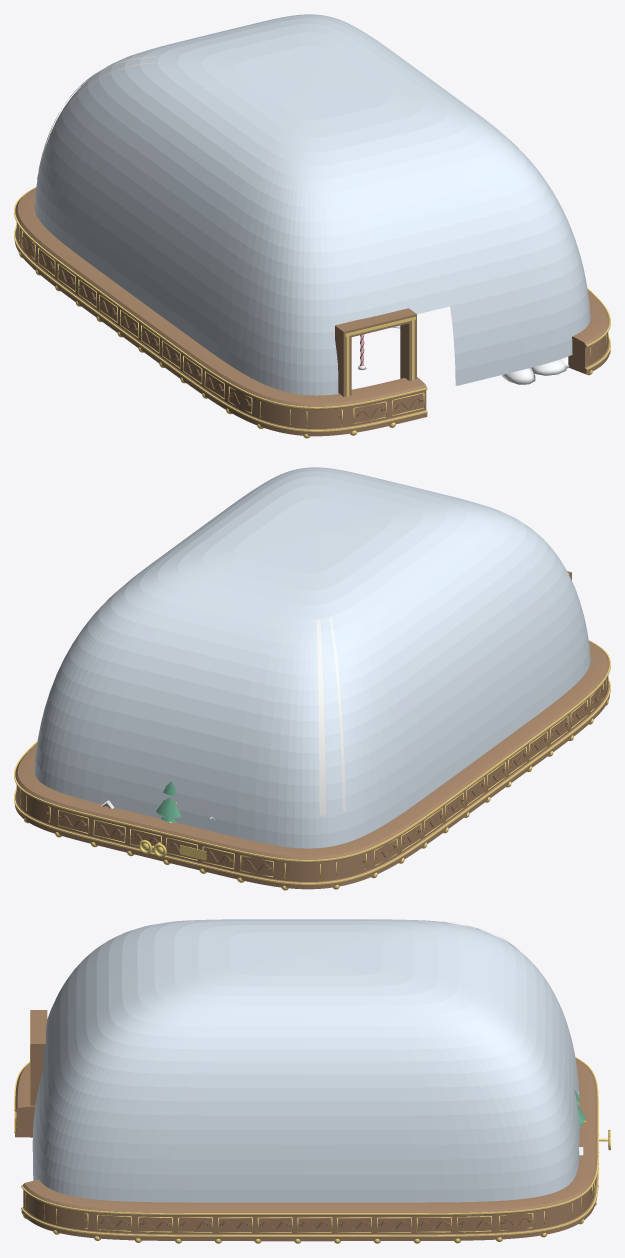
The model's file is SnowGlobeCage.fbx.
3 renders of one model, top to bottom at view 1: azimuth 30°, elevation 25°; view 2: azimuth 150°, elevation 25°; view 3: azimuth 270°, elevation 25°, orthographic. The views are drawn at different scales.
Visible parts, largest first — view 1: GlobeGlass, GlobeBase, GlobeBand, GlobeCarving, GlobeBaseDark, GlobeSnow; view 2: GlobeGlass, GlobeBase, GlobeBand, GlobeCarving, GlobeHighlights, GlobeBaseDark; view 3: GlobeGlass, GlobeBase, GlobeBand, GlobeCarving, GlobeBaseDark.
Part boxes in pixels (x1,y1,x2,y2): GlobeGlass: [34, 14, 590, 395]; GlobeBase: [15, 187, 609, 436]; GlobeBand: [14, 187, 610, 431]; GlobeCarving: [19, 226, 608, 426]; GlobeBaseDark: [18, 229, 605, 418]; GlobeSnow: [502, 356, 569, 384]; GlobeGlass: [34, 467, 590, 848]; GlobeBase: [15, 571, 609, 889]; GlobeBand: [14, 640, 610, 884]; GlobeCarving: [20, 679, 606, 879]; GlobeHighlights: [316, 617, 345, 815]; GlobeBaseDark: [19, 681, 606, 871]; GlobeGlass: [32, 919, 579, 1202]; GlobeBase: [15, 1010, 597, 1241]; GlobeBand: [14, 1013, 598, 1236]; GlobeCarving: [16, 1112, 596, 1232]; GlobeBaseDark: [15, 1112, 596, 1229].
Bounding box in the file's own units: 1080 × 601 × 1581.
